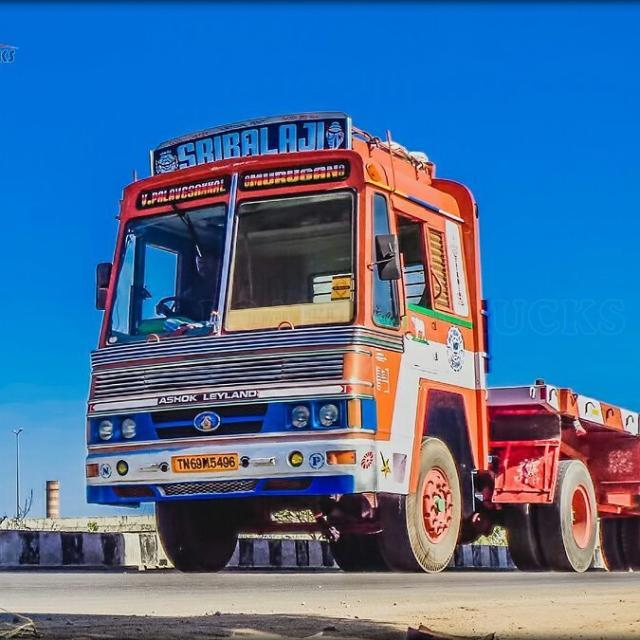Truck: (81, 103, 640, 573)
